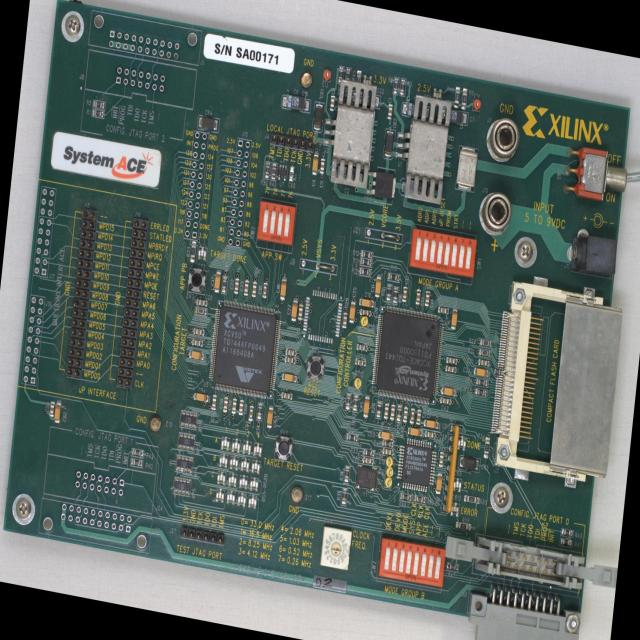Button: (272, 434, 294, 462), (187, 266, 207, 294), (305, 355, 325, 382)
Capacitor Jumper: (401, 285, 408, 302), (233, 278, 240, 295), (195, 298, 208, 307), (341, 312, 348, 328), (251, 280, 257, 298), (444, 364, 456, 373), (354, 358, 366, 367), (382, 448, 394, 457), (445, 356, 458, 364), (424, 290, 430, 307), (262, 281, 268, 298), (243, 279, 249, 296), (297, 303, 303, 320), (383, 402, 389, 419), (390, 404, 396, 421), (409, 407, 415, 424), (211, 394, 217, 411), (238, 399, 244, 416), (248, 405, 254, 422), (387, 103, 393, 120), (329, 95, 335, 112), (193, 327, 204, 336), (414, 289, 420, 305), (437, 306, 449, 314), (359, 308, 371, 316), (478, 358, 490, 366), (356, 344, 368, 352), (285, 348, 297, 356), (284, 356, 296, 364), (191, 338, 203, 346), (402, 406, 408, 422), (416, 409, 422, 425), (280, 391, 292, 399), (424, 430, 436, 438), (222, 396, 228, 412), (438, 451, 444, 467), (362, 456, 374, 464), (49, 401, 55, 417), (319, 158, 325, 174), (440, 397, 451, 405), (231, 398, 236, 414)
Clock: (355, 463, 377, 492)
Connector: (488, 267, 629, 494), (444, 528, 618, 598), (464, 576, 584, 640), (64, 208, 98, 379), (115, 218, 148, 389), (568, 230, 618, 281), (227, 139, 250, 247), (184, 131, 207, 239), (107, 29, 180, 61), (59, 503, 131, 534), (33, 187, 55, 277), (483, 113, 521, 164), (22, 296, 44, 384), (476, 188, 514, 238), (112, 63, 166, 93), (74, 469, 125, 496), (269, 133, 314, 153), (180, 526, 224, 546)
Electrolytic Capacitor: (398, 177, 436, 202), (328, 164, 363, 187), (400, 100, 429, 120), (281, 93, 310, 112), (441, 107, 468, 126), (352, 89, 379, 107), (311, 99, 325, 133), (195, 114, 220, 133), (458, 455, 479, 472), (384, 131, 394, 158), (348, 299, 356, 324), (266, 404, 274, 429), (311, 151, 319, 176), (374, 275, 382, 299), (450, 306, 458, 330), (279, 276, 287, 300), (214, 269, 222, 293), (440, 386, 456, 397), (281, 372, 297, 383), (362, 396, 370, 418), (291, 297, 298, 322), (54, 402, 62, 423), (193, 392, 208, 403), (358, 298, 374, 308), (473, 367, 489, 377), (188, 350, 204, 360), (435, 472, 442, 494), (423, 419, 438, 429), (407, 427, 422, 437), (378, 430, 393, 440)
IC: (207, 298, 282, 402), (370, 304, 444, 407), (395, 117, 456, 182), (322, 102, 379, 166), (302, 287, 344, 345), (396, 436, 437, 494), (454, 144, 479, 193), (277, 164, 287, 181), (363, 73, 372, 85)
Jumper: (378, 229, 403, 244), (314, 260, 337, 275)
Led: (197, 245, 207, 261), (456, 435, 466, 451), (231, 437, 241, 453), (252, 442, 262, 458), (229, 455, 239, 471), (228, 472, 238, 488), (238, 474, 248, 490), (248, 476, 258, 492), (236, 492, 246, 508), (248, 494, 258, 510), (220, 436, 230, 451), (242, 440, 252, 455), (250, 459, 260, 474), (218, 453, 228, 468), (240, 457, 250, 472), (450, 502, 460, 517), (216, 471, 226, 486), (214, 488, 224, 503), (226, 490, 236, 505), (453, 477, 462, 493), (433, 88, 442, 100)
Pads: (298, 258, 308, 269), (289, 165, 295, 182), (364, 227, 373, 238)
Resistor: (189, 240, 197, 264), (460, 88, 468, 110), (483, 436, 490, 459), (454, 86, 461, 109), (454, 521, 470, 531), (464, 495, 479, 504), (400, 493, 413, 503), (360, 250, 372, 260), (375, 401, 382, 418), (359, 257, 372, 266), (358, 267, 371, 276), (478, 348, 491, 357), (195, 307, 207, 316), (381, 439, 393, 448), (414, 495, 426, 504), (131, 448, 143, 457), (130, 458, 142, 467), (446, 562, 458, 571), (475, 378, 488, 386), (345, 434, 358, 442), (386, 284, 392, 301), (392, 287, 398, 304), (352, 394, 358, 411), (386, 273, 398, 281), (221, 277, 227, 293), (479, 339, 491, 347), (475, 388, 487, 396), (362, 449, 374, 457), (561, 528, 573, 536), (341, 488, 347, 504), (560, 538, 572, 546), (392, 78, 398, 94), (92, 100, 104, 108), (92, 110, 104, 118), (396, 404, 401, 421), (338, 66, 343, 83), (356, 69, 362, 83), (346, 393, 351, 409), (257, 403, 262, 419), (344, 466, 349, 482), (400, 79, 405, 95), (265, 162, 270, 178), (271, 163, 276, 179), (345, 68, 350, 80), (494, 368, 500, 374)
Resistor Network: (177, 432, 195, 452), (172, 476, 190, 496), (180, 410, 198, 429), (175, 454, 193, 473)
Switch: (562, 143, 640, 210), (376, 536, 446, 588), (408, 226, 477, 278), (256, 200, 296, 247)
Test Point: (148, 413, 162, 433), (290, 486, 304, 504), (299, 70, 313, 88), (472, 98, 482, 112), (359, 315, 368, 328), (353, 376, 362, 389), (322, 69, 331, 82), (384, 467, 394, 478), (385, 456, 394, 467), (383, 477, 392, 488)
Transistor: (366, 169, 396, 199)
Unknown Unlabeled: (440, 423, 460, 514)
